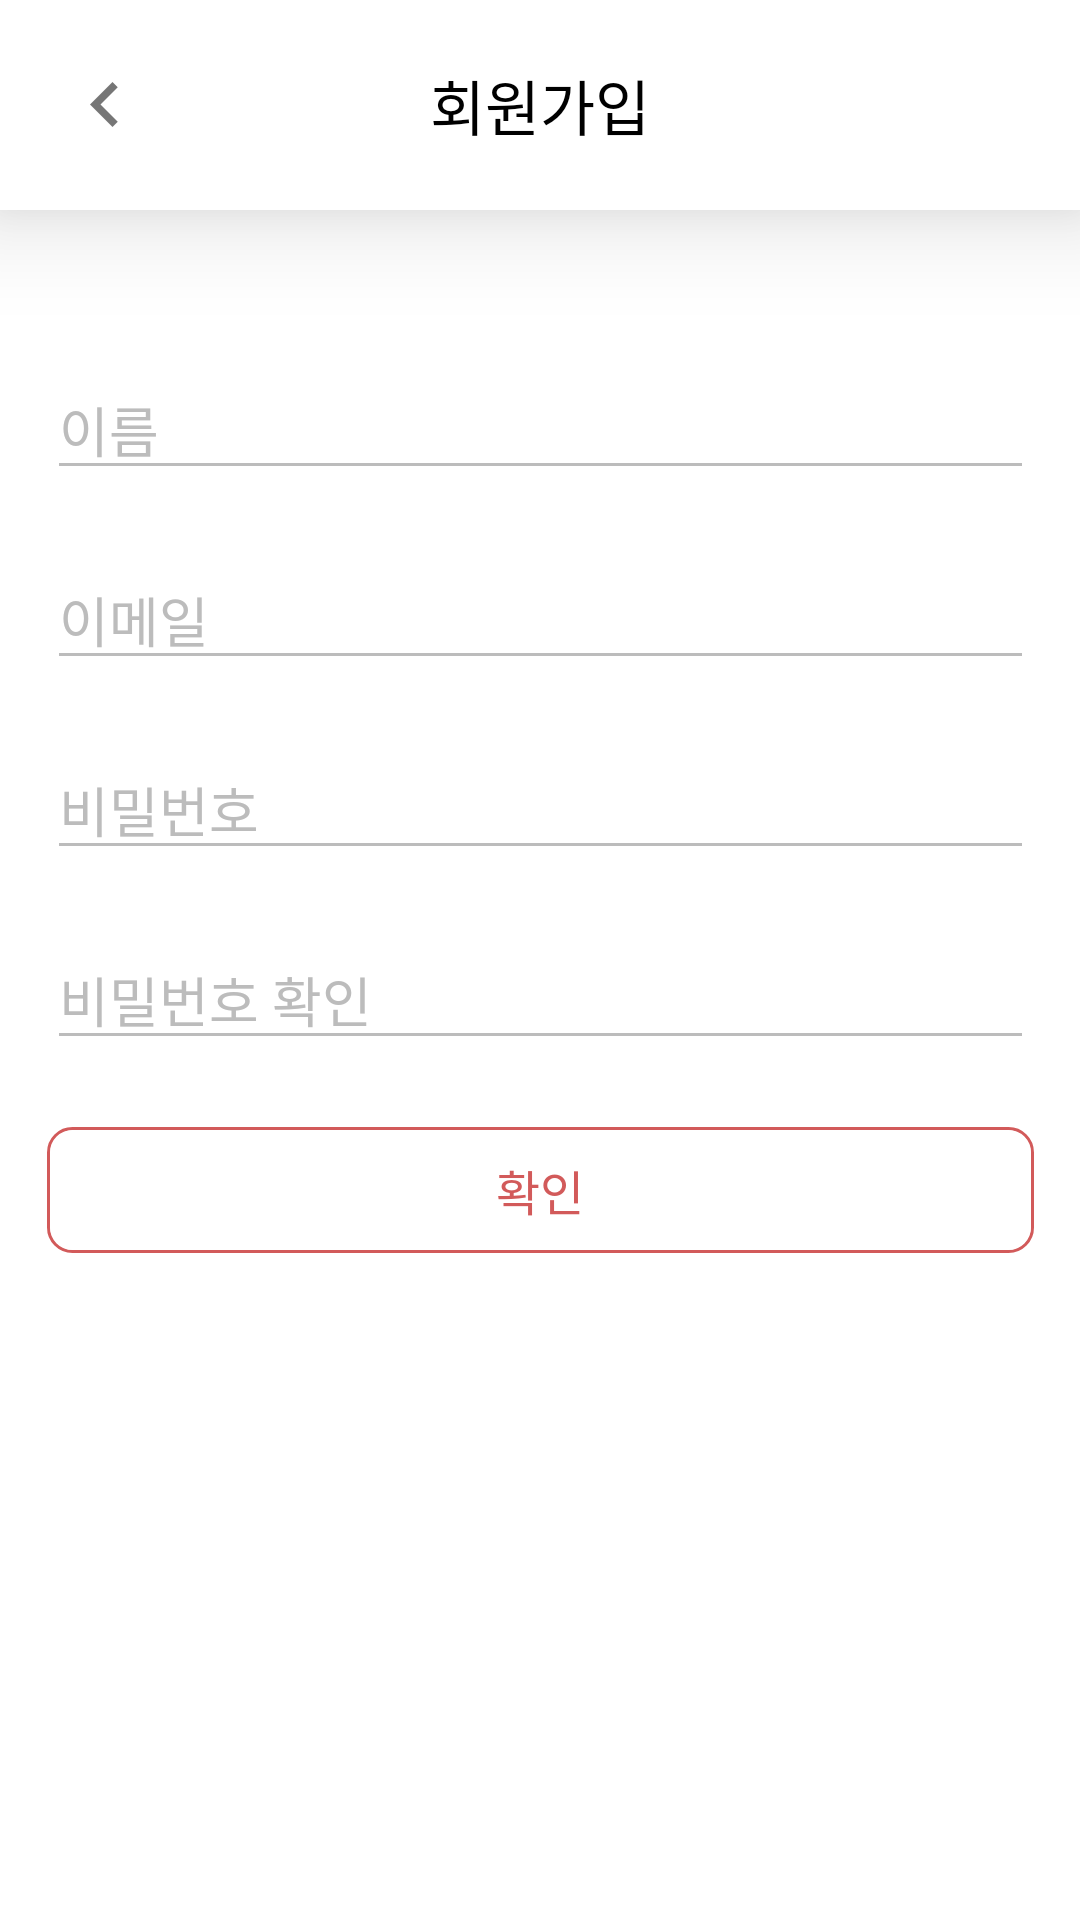

Point at icon controls on the screen. Image size 1080×1920, points as (x=x, y=y).
back: (x=104, y=104)
